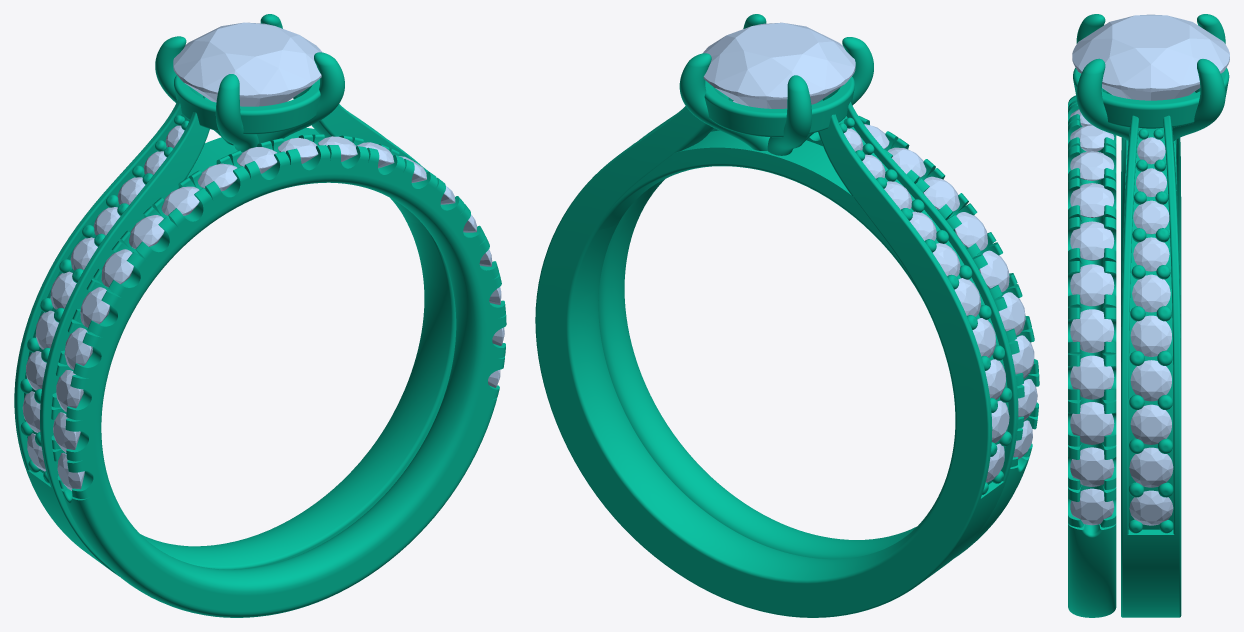
The picture shows the model from 3 angles, left to right: view 1: azimuth 30°, elevation 25°; view 2: azimuth 150°, elevation 25°; view 3: azimuth 270°, elevation 25°; orthographic projection. The views are drawn at different scales.
Visible parts, largest first — view 1: wedding set(front).3dm, Diamond_Round (×2), GemOnCrv (×8), Bezel; view 2: wedding set(front).3dm, Diamond_Round (×2), GemOnCrv (×5), Bezel; view 3: wedding set(front).3dm, Diamond_Round (×11), GemOnCrv (×10), Bezel.
Part boxes in pixels (bbox=[...]): wedding set(front).3dm: bbox=[14, 14, 506, 617]; Diamond_Round (×2): bbox=[50, 22, 322, 309]; GemOnCrv (×8): bbox=[56, 147, 277, 411]; Bezel: bbox=[174, 75, 320, 134]; wedding set(front).3dm: bbox=[535, 14, 1039, 617]; Diamond_Round (×2): bbox=[702, 22, 980, 316]; GemOnCrv (×5): bbox=[887, 147, 1025, 335]; Bezel: bbox=[704, 77, 854, 137]; wedding set(front).3dm: bbox=[1068, 14, 1225, 617]; Diamond_Round (×11): bbox=[1072, 14, 1229, 525]; GemOnCrv (×10): bbox=[1070, 125, 1114, 525]; Bezel: bbox=[1073, 68, 1229, 128].
Bounding box in the file's own units: 2.54 × 2.99 × 0.7822.
